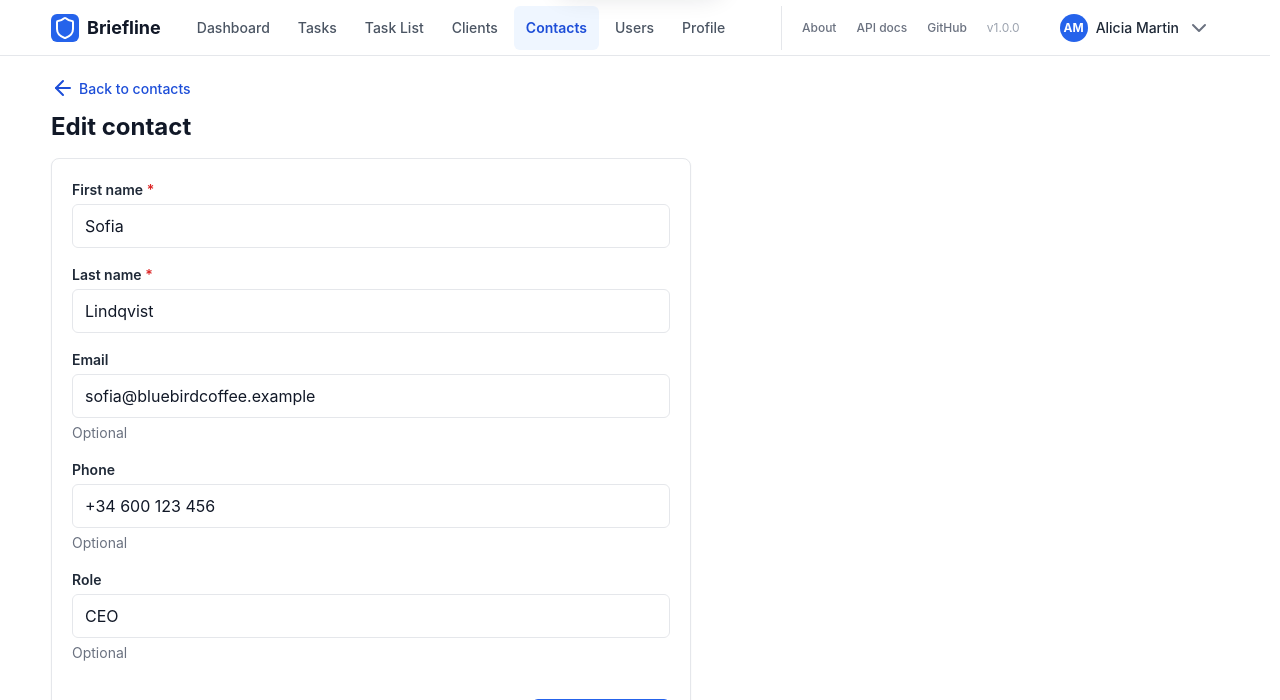
Scenario: Contact edit (admin) › prefills the loaded contact and announces the update after saving
Expected: the heading "Edit contact" is shown, [51,112,191,142]
Expected: the field labelled "First name *" holds "Sofia", [72,204,670,248]
Replace the text in the field labelled "Last name *" with "Kowalski": (371, 311) [72,289,670,333]
(page scrolled)
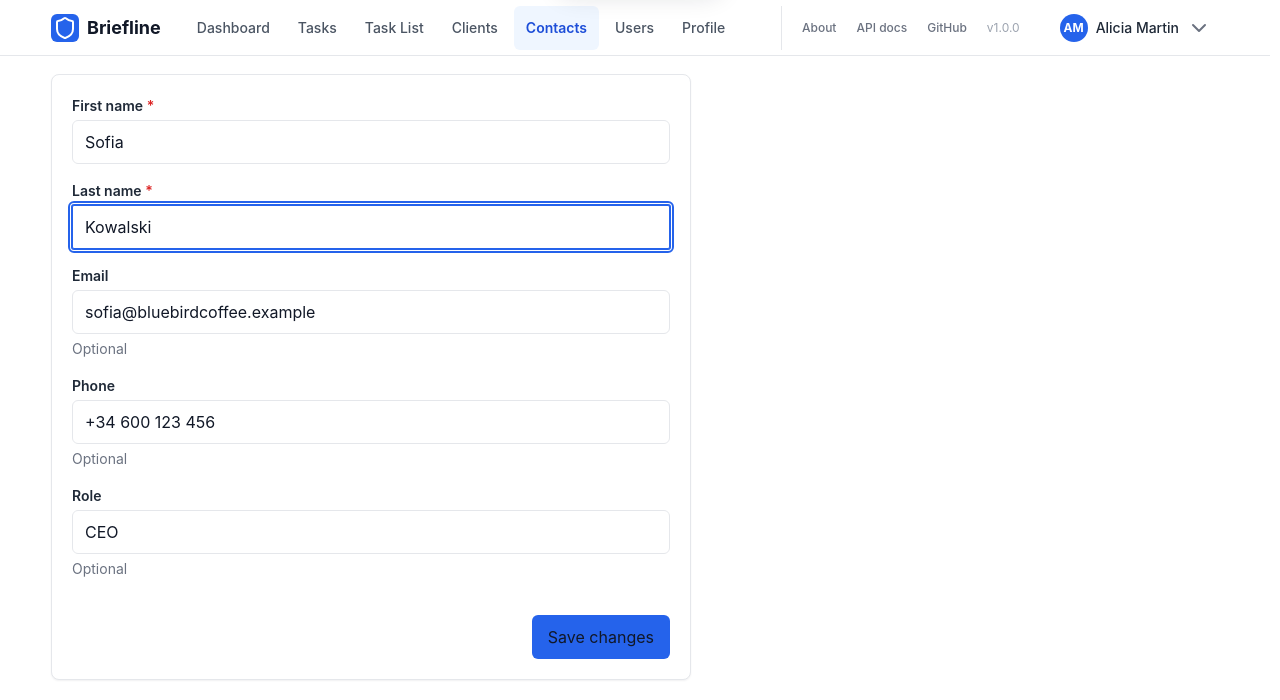
Click the button "Save changes": (601, 637) [532,615,670,659]
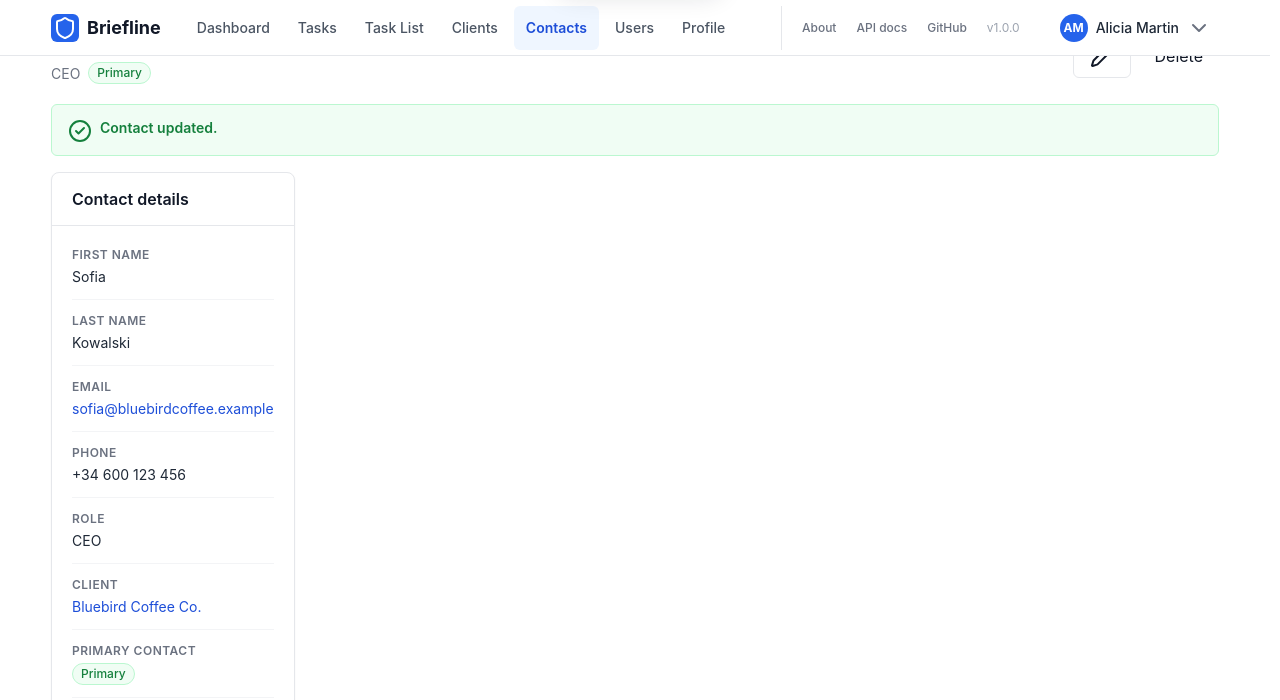
Expected: the heading "Sofia Kowalski" is shown, [51,28,192,53]
Expected: the text "Contact updated." is shown, [100,117,218,138]
